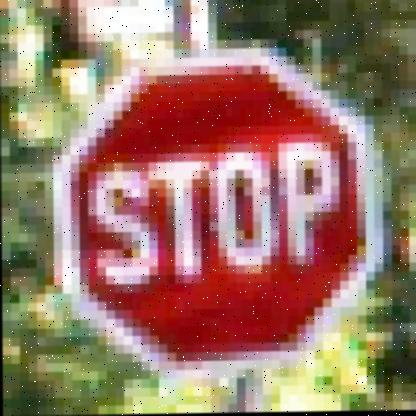Stop Sign: (58, 47, 388, 374)
